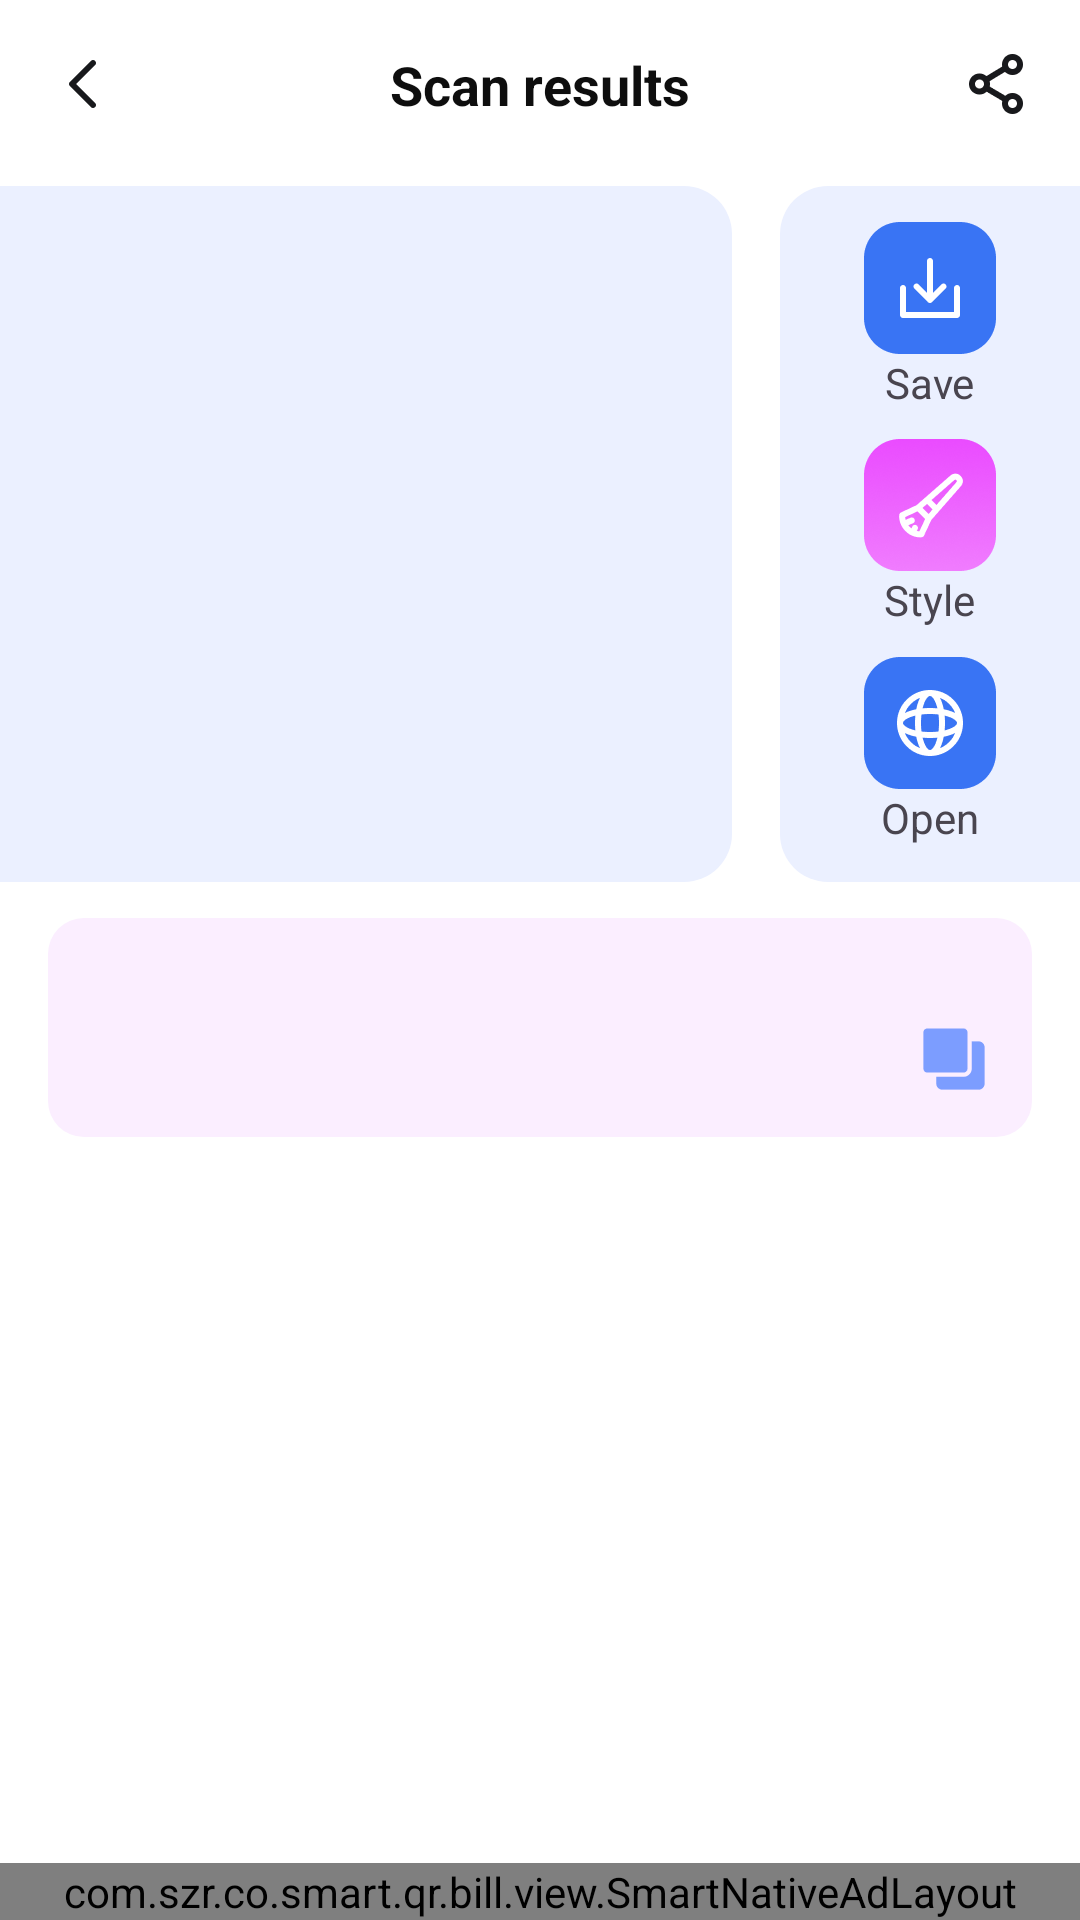

Where icons sit on this 1080x1920 app screen, as (x1, y1, x2, y2):
arrow back: (69, 60, 96, 108)
browser: (864, 657, 996, 789)
share: (969, 54, 1023, 114)
